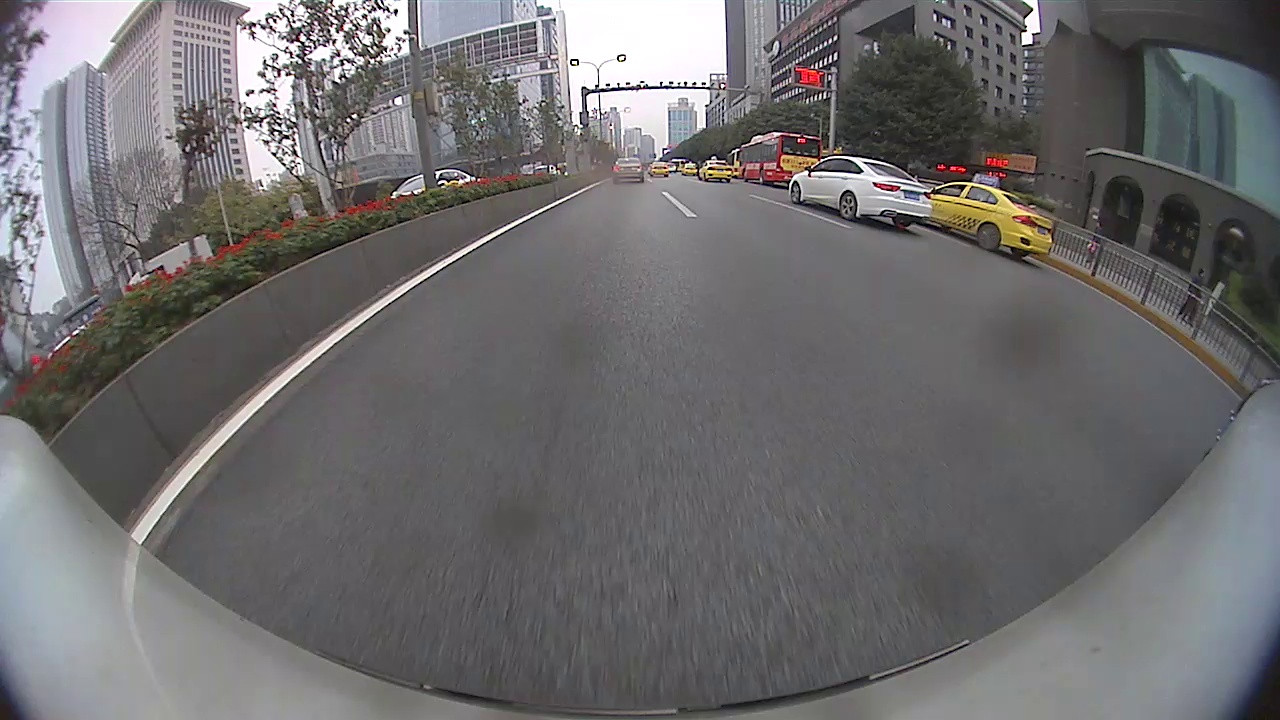bus: (735, 127, 825, 187)
car: (924, 171, 1058, 260), (787, 151, 936, 231), (387, 166, 486, 202), (697, 153, 734, 183), (610, 155, 646, 184), (528, 162, 564, 176), (649, 159, 671, 178), (679, 159, 700, 178)
front: (790, 182, 802, 205)
person: (1187, 266, 1205, 329), (1086, 219, 1104, 270)
rear: (975, 222, 1003, 253), (838, 193, 858, 221)
